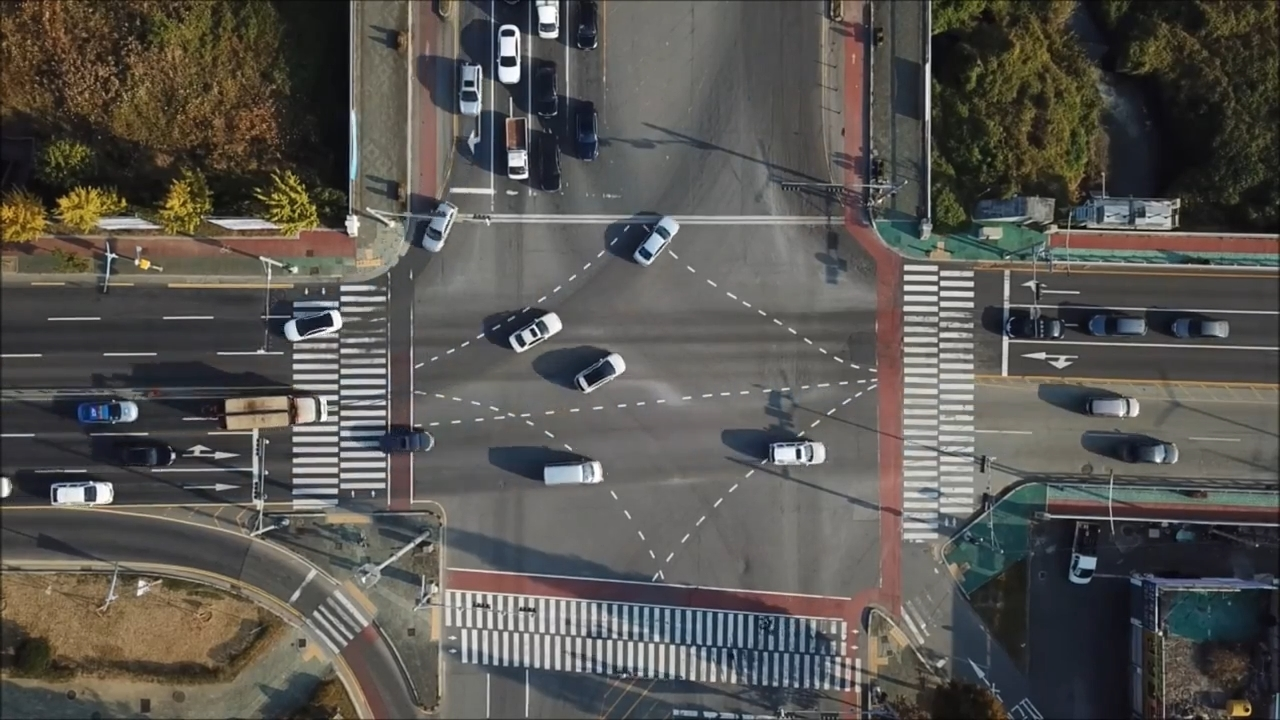car: (213, 392, 331, 430), (630, 212, 680, 268), (508, 310, 562, 354), (572, 350, 627, 393), (284, 306, 344, 344), (422, 197, 459, 253), (1067, 521, 1097, 586), (103, 442, 177, 468), (1171, 313, 1233, 341), (492, 21, 519, 85), (1089, 312, 1150, 339), (766, 438, 827, 465), (50, 480, 115, 505), (534, 124, 559, 189), (456, 62, 482, 124), (1121, 440, 1180, 467), (76, 400, 137, 426), (1011, 317, 1075, 341), (502, 113, 526, 175), (532, 55, 557, 114), (543, 460, 601, 484), (375, 429, 433, 452), (574, 102, 596, 162), (1086, 394, 1139, 418), (573, 1, 595, 50), (533, 1, 559, 36)
